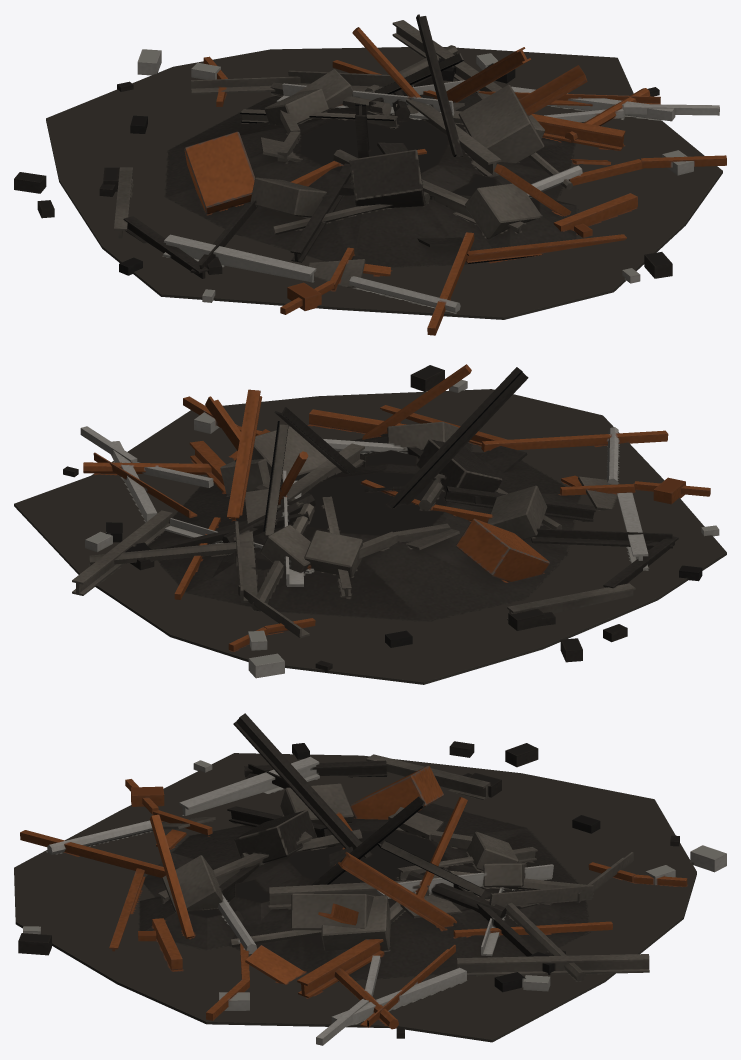
The model's file is scrap_heap_3.fbx.
The picture shows the model from 3 angles, top to bottom: view 1: azimuth 30°, elevation 25°; view 2: azimuth 150°, elevation 25°; view 3: azimuth 270°, elevation 25°; orthographic projection.
Visible parts, largest first — view 1: base_bar; view 2: base_bar; view 3: base_bar.
Boxes of the visible parts, left/top/right/bottom form: base_bar: left=14, top=14, right=726, bottom=335; base_bar: left=14, top=364, right=726, bottom=684; base_bar: left=14, top=713, right=726, bottom=1045.
Size of the model in its own units: 2110 by 654 by 2115.
Materials: 2 (2 with a texture image).
